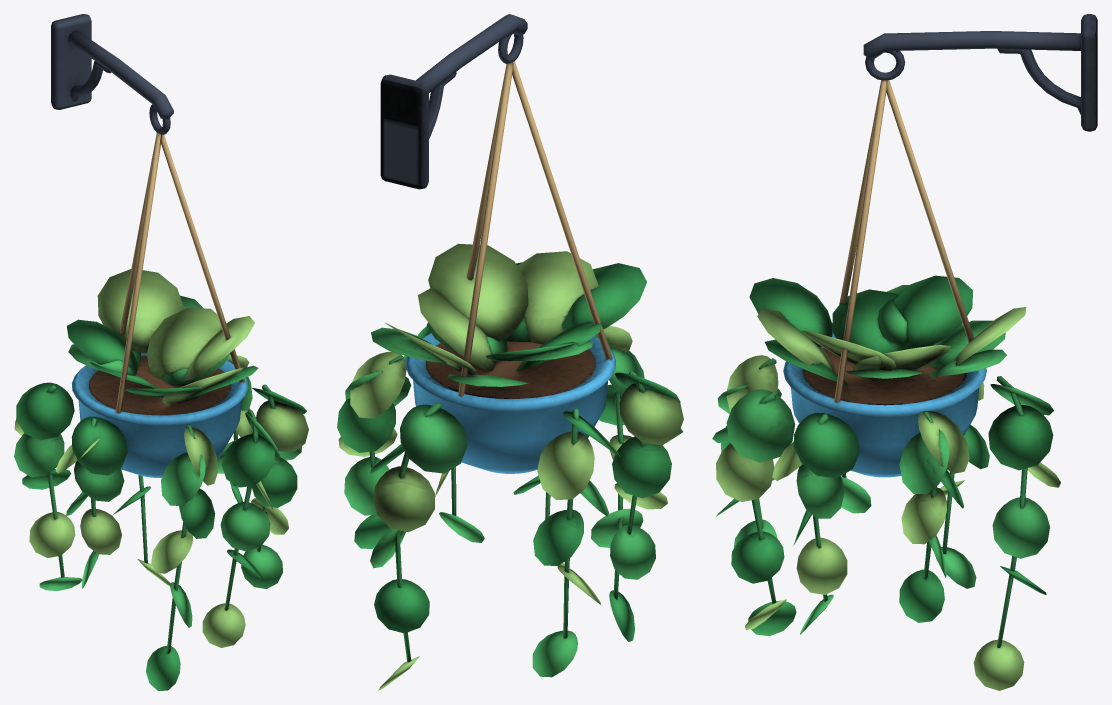
Rendered from plant_hanging.glb.
The picture shows the model from 3 angles, left to right: view 1: azimuth 30°, elevation 25°; view 2: azimuth 150°, elevation 25°; view 3: azimuth 270°, elevation 25°; orthographic projection. The views are drawn at different scales.
Parts seen in each view (by area): view 1: plant_hanging; view 2: plant_hanging; view 3: plant_hanging.
Part boxes in pixels (<box>): plant_hanging: <box>14,14,308,690</box>; plant_hanging: <box>337,14,683,690</box>; plant_hanging: <box>712,14,1097,690</box>.
Size of the model in its own units: 0.576 by 1.27 by 0.6889.
8 materials, 8 textured.
